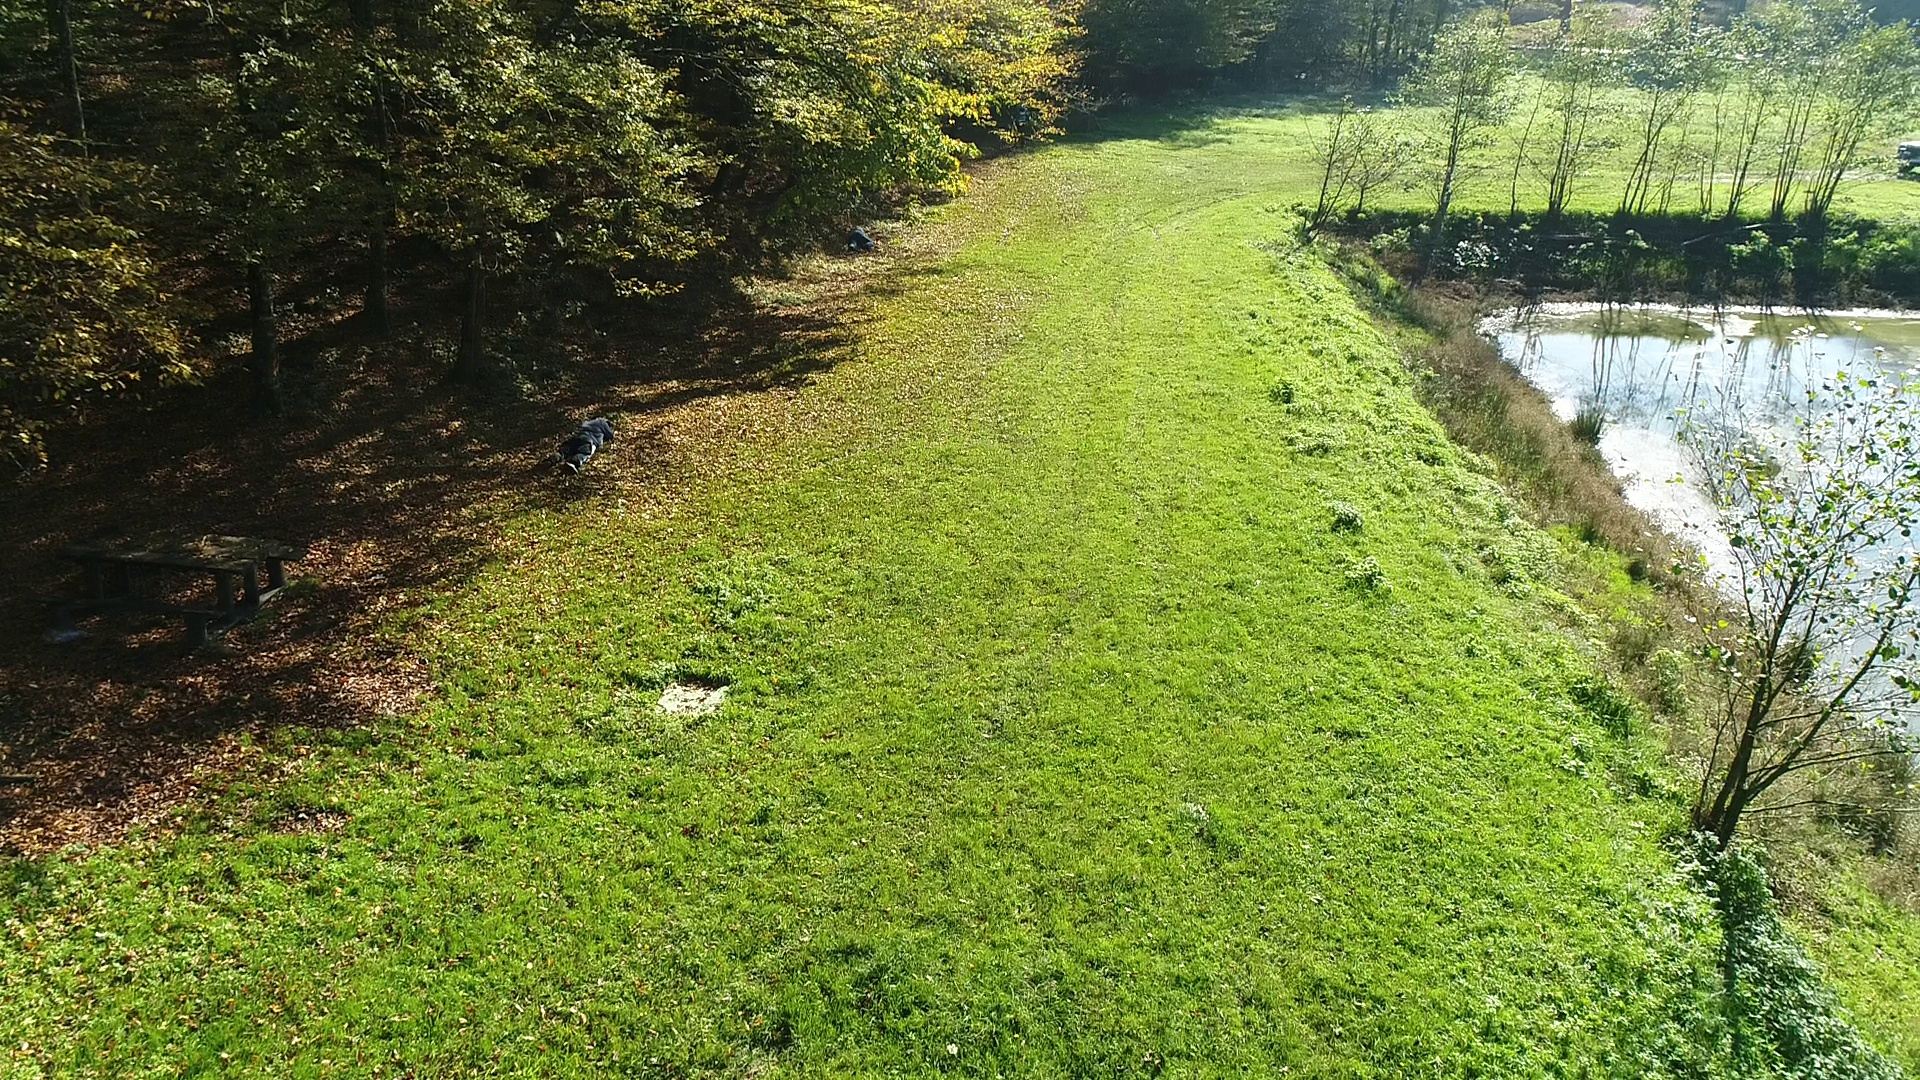person: (532, 416, 614, 475), (846, 225, 874, 251), (1011, 107, 1029, 147)
